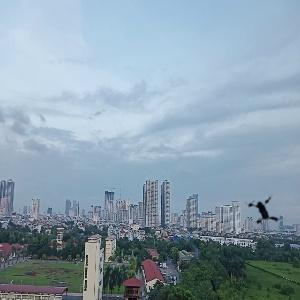drone: (242, 184, 292, 234)
